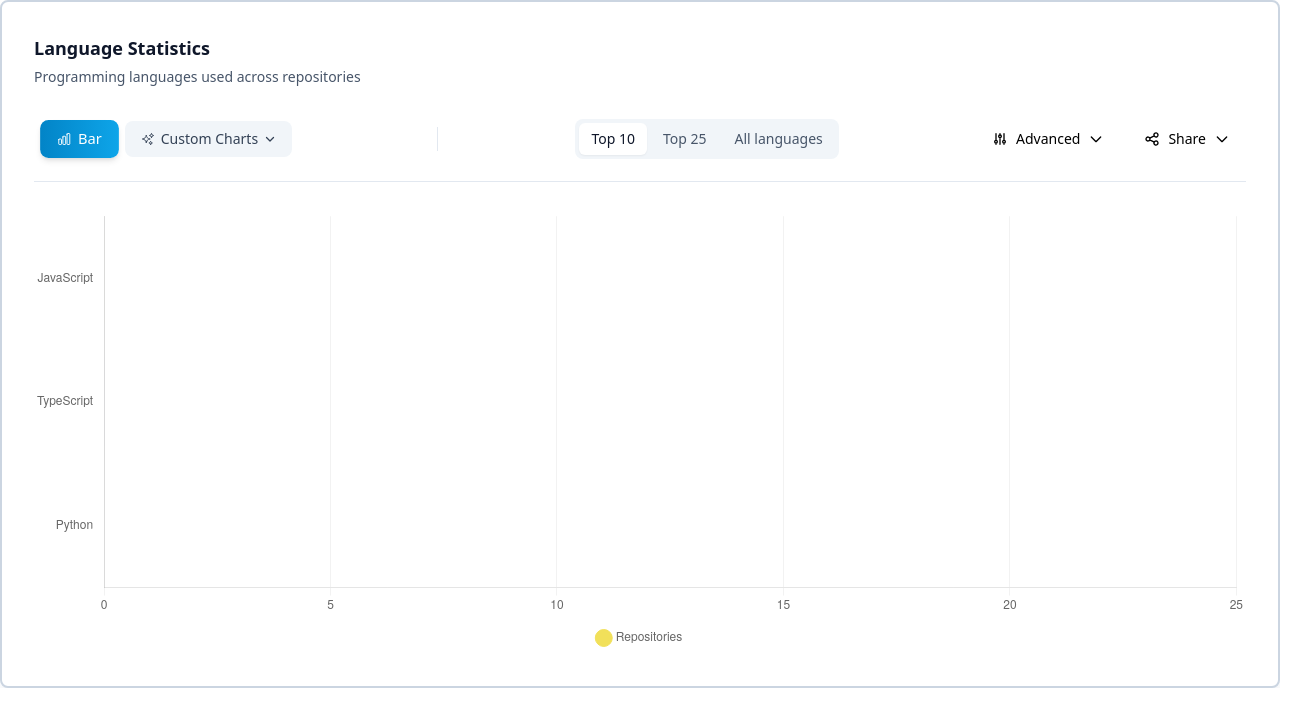
it: ChartPanel › Copy URL functionality › shows success toast when URL is copied successfully
Note: Open dropdown
Click the button "Share" at (1187, 139), box [1128,121,1246,157]
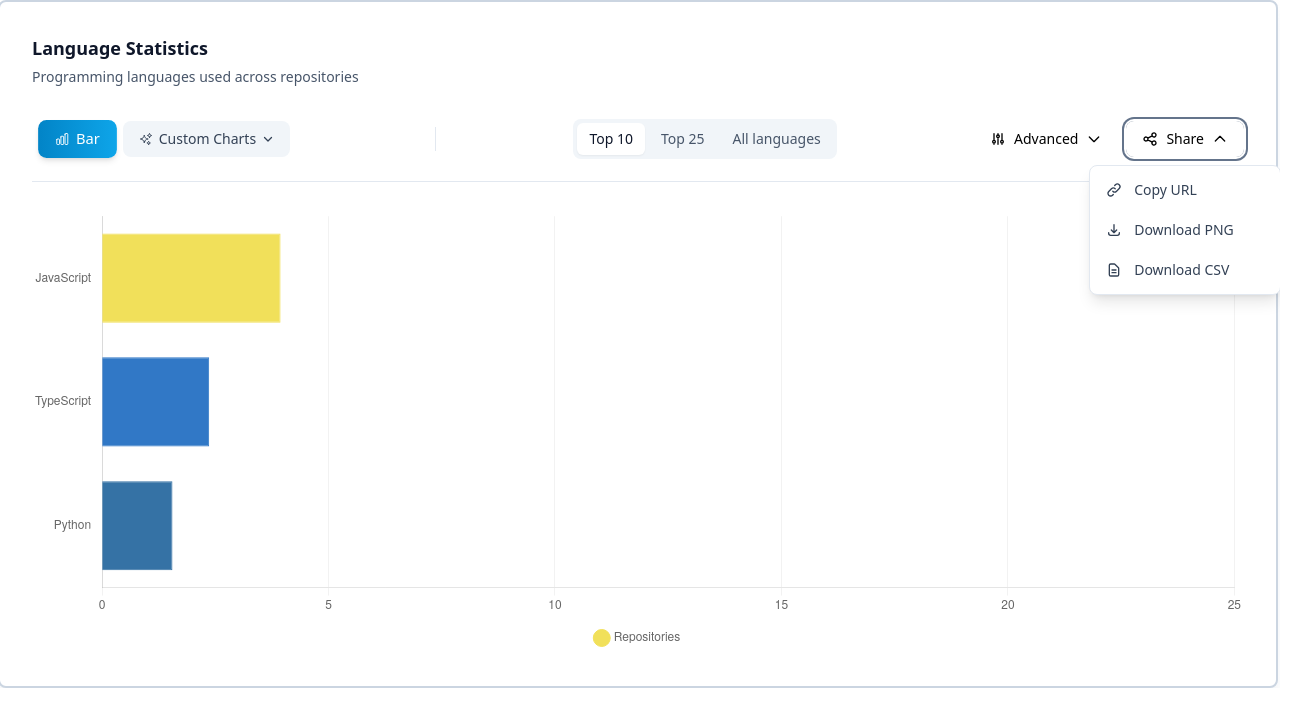
Note: Click Copy URL
Click the menu item "Copy URL" at (1185, 190), box [1090,170,1280,210]
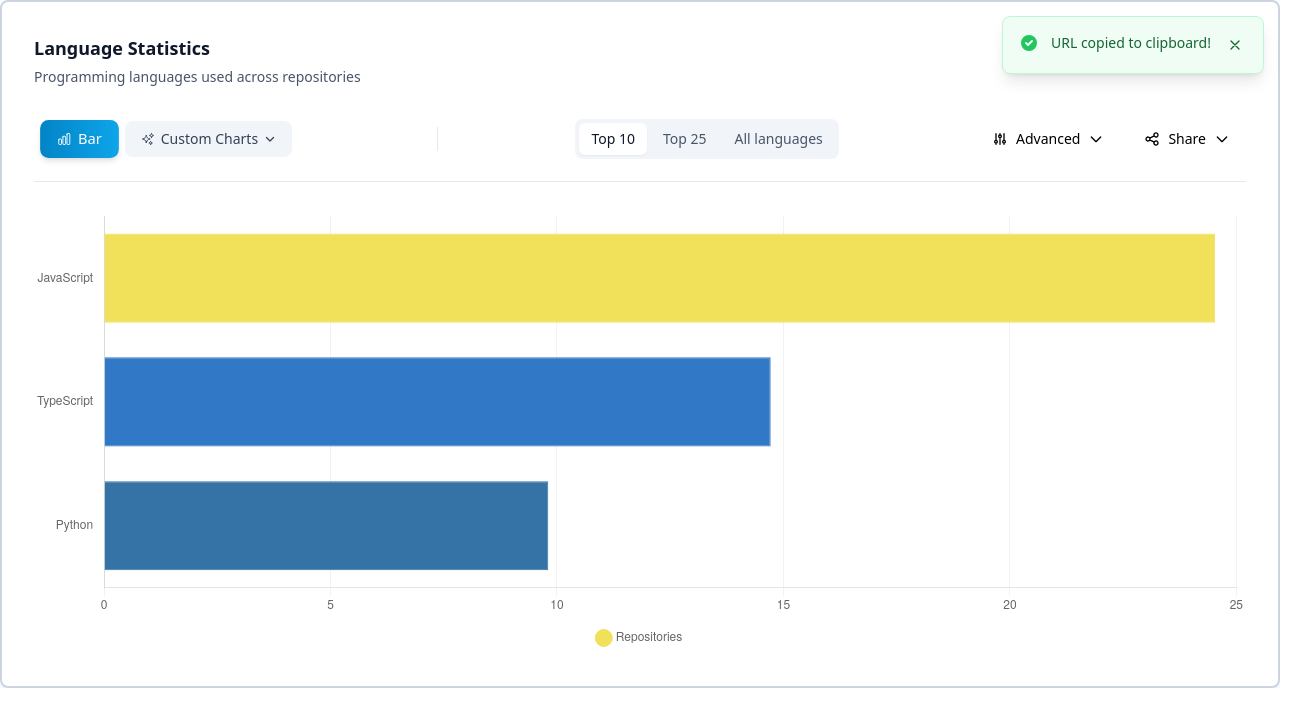
Check: the text "URL copied to clipboard!" is shown, box [1051,33,1211,53]
